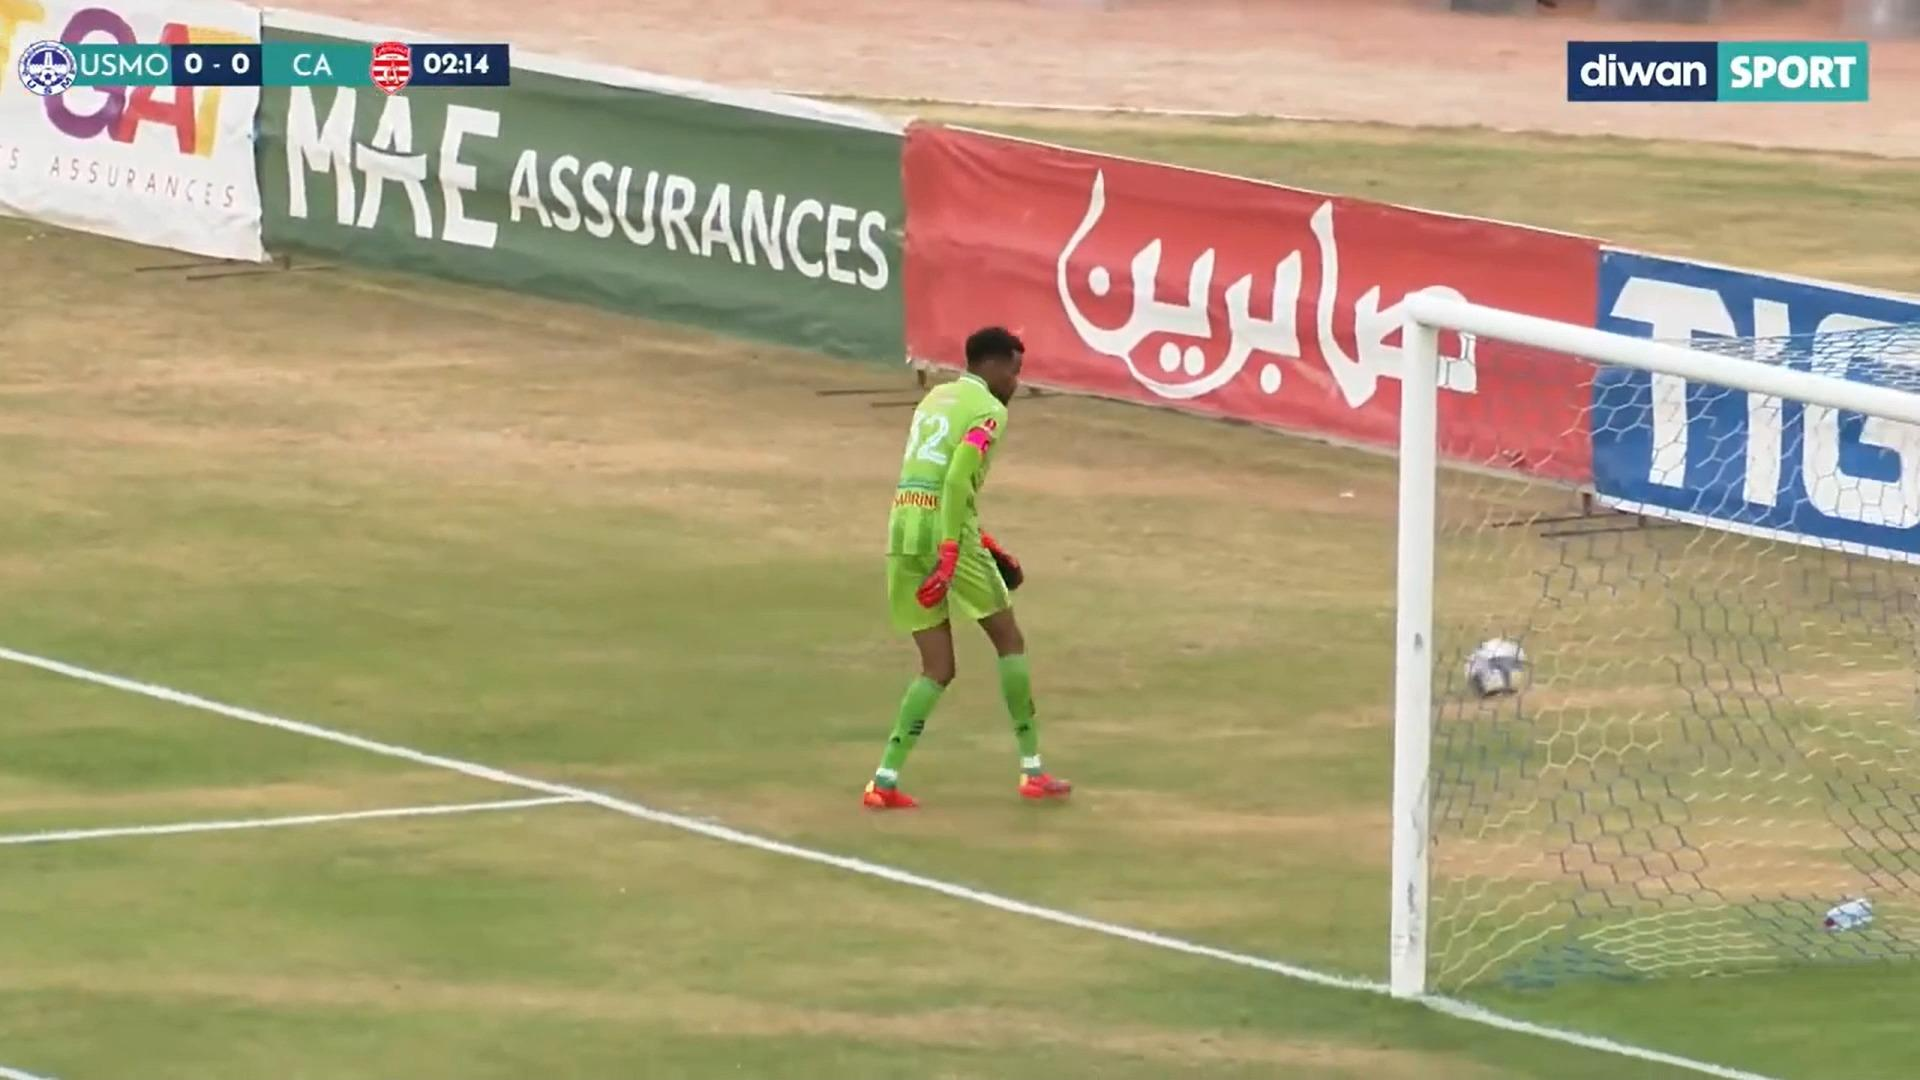ball: (1461, 616, 1531, 700)
goalkeeper: (860, 319, 1081, 831)
